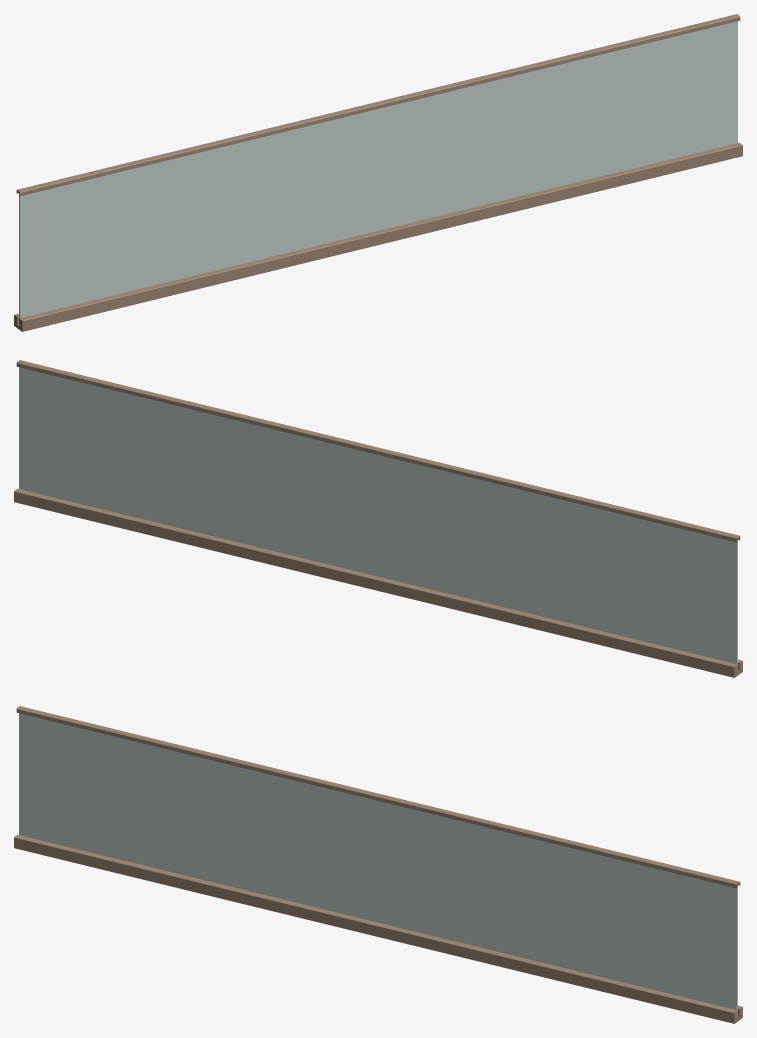
The model's file is gc-glassline-600-quartz-1019.glb.
3 views of the same model, one above another, from view 1: azimuth 30°, elevation 25°; view 2: azimuth 150°, elevation 25°; view 3: azimuth 330°, elevation 25° (orthographic).
Parts seen in each view (by area): view 1: verre, structure; view 2: verre, structure; view 3: verre, structure.
Boxes of the visible parts, x1,y1,x2,y2 form: verre: (19,21,737,324); structure: (14,14,742,331); verre: (19,367,737,670); structure: (14,360,742,677); verre: (19,713,737,1016); structure: (14,706,742,1023).
Size of the model in its own units: 6 by 1.1 by 0.125.
